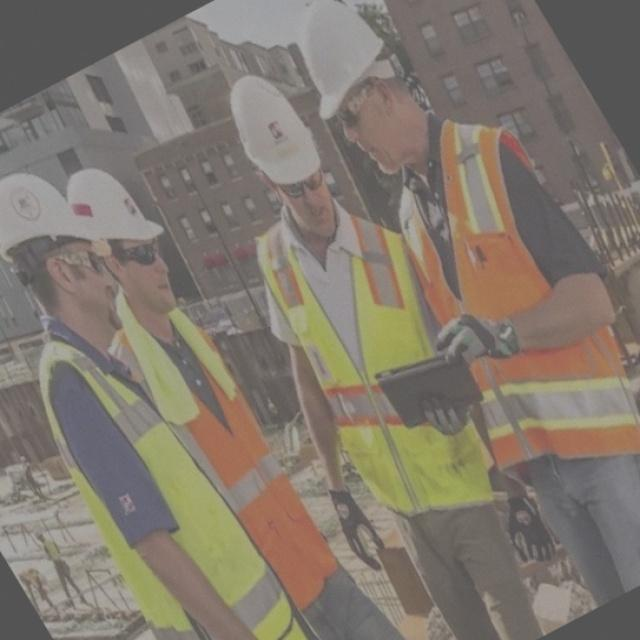Capacete: (298, 0, 395, 118), (230, 75, 320, 183), (0, 173, 99, 261), (67, 168, 163, 240)
Colete: (40, 339, 306, 639), (258, 216, 491, 514), (181, 364, 337, 609), (400, 120, 550, 323), (43, 539, 61, 561)
Oculos: (278, 169, 323, 197), (52, 251, 106, 273), (113, 240, 159, 265)
Pessoa: (301, 2, 639, 603), (231, 76, 540, 639), (67, 169, 400, 639), (0, 174, 315, 639), (36, 533, 87, 605), (18, 567, 58, 614), (20, 456, 46, 499)
